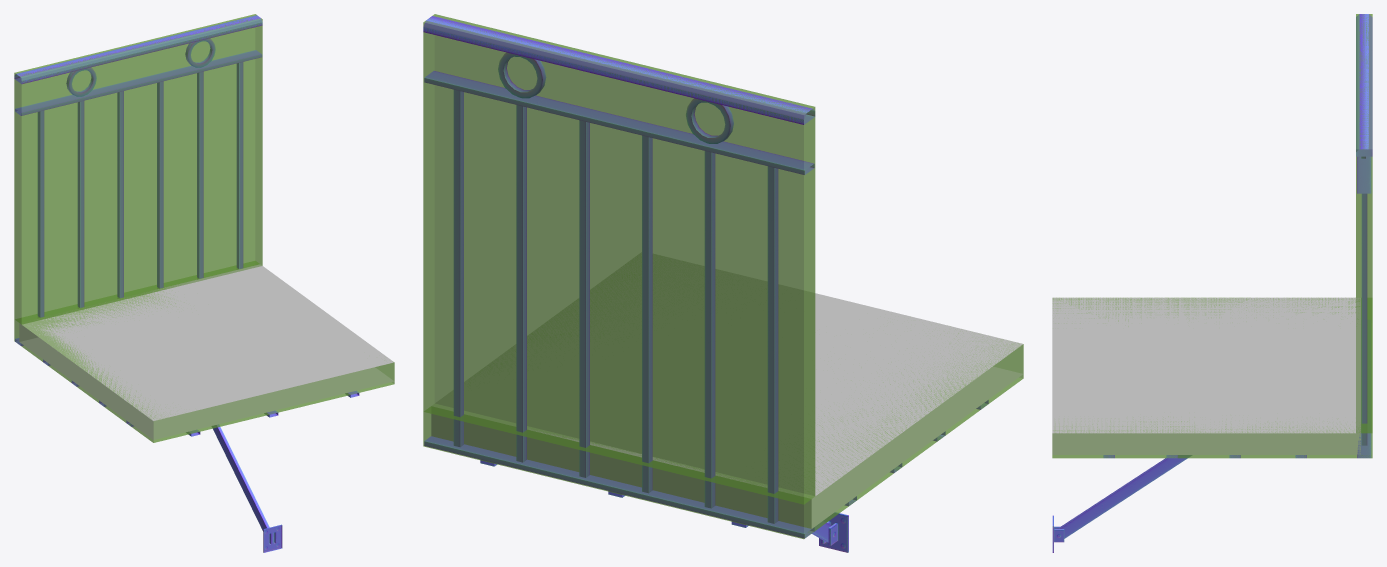
The model's file is F_md_Balcony_L_mid_01.fbx.
3 renders of one model, left to right at view 1: azimuth 30°, elevation 25°; view 2: azimuth 150°, elevation 25°; view 3: azimuth 270°, elevation 25°, orthographic. The views are drawn at different scales.
Visible parts, largest first — view 1: F_md_Balcony_L_mid_01_col_2, F_md_Balcony_L_mid_01_LOD0, F_md_Balcony_L_mid_01_col_1; view 2: F_md_Balcony_L_mid_01_col_2, F_md_Balcony_L_mid_01_LOD0, F_md_Balcony_L_mid_01_col_1; view 3: F_md_Balcony_L_mid_01_LOD0, F_md_Balcony_L_mid_01_col_1, F_md_Balcony_L_mid_01_col_2.
Part boxes in pixels (box(x1,y1,x2,y2)): F_md_Balcony_L_mid_01_col_2: box(14, 14, 262, 324); F_md_Balcony_L_mid_01_LOD0: box(14, 15, 393, 552); F_md_Balcony_L_mid_01_col_1: box(14, 261, 394, 442); F_md_Balcony_L_mid_01_col_2: box(423, 14, 815, 504); F_md_Balcony_L_mid_01_LOD0: box(423, 16, 1022, 552); F_md_Balcony_L_mid_01_col_1: box(423, 333, 1023, 539); F_md_Balcony_L_mid_01_LOD0: box(1052, 14, 1372, 552); F_md_Balcony_L_mid_01_col_1: box(1052, 297, 1372, 458); F_md_Balcony_L_mid_01_col_2: box(1356, 14, 1372, 433).
Size of what is drawn, in the model's own units: 100 by 161 by 99.92.
